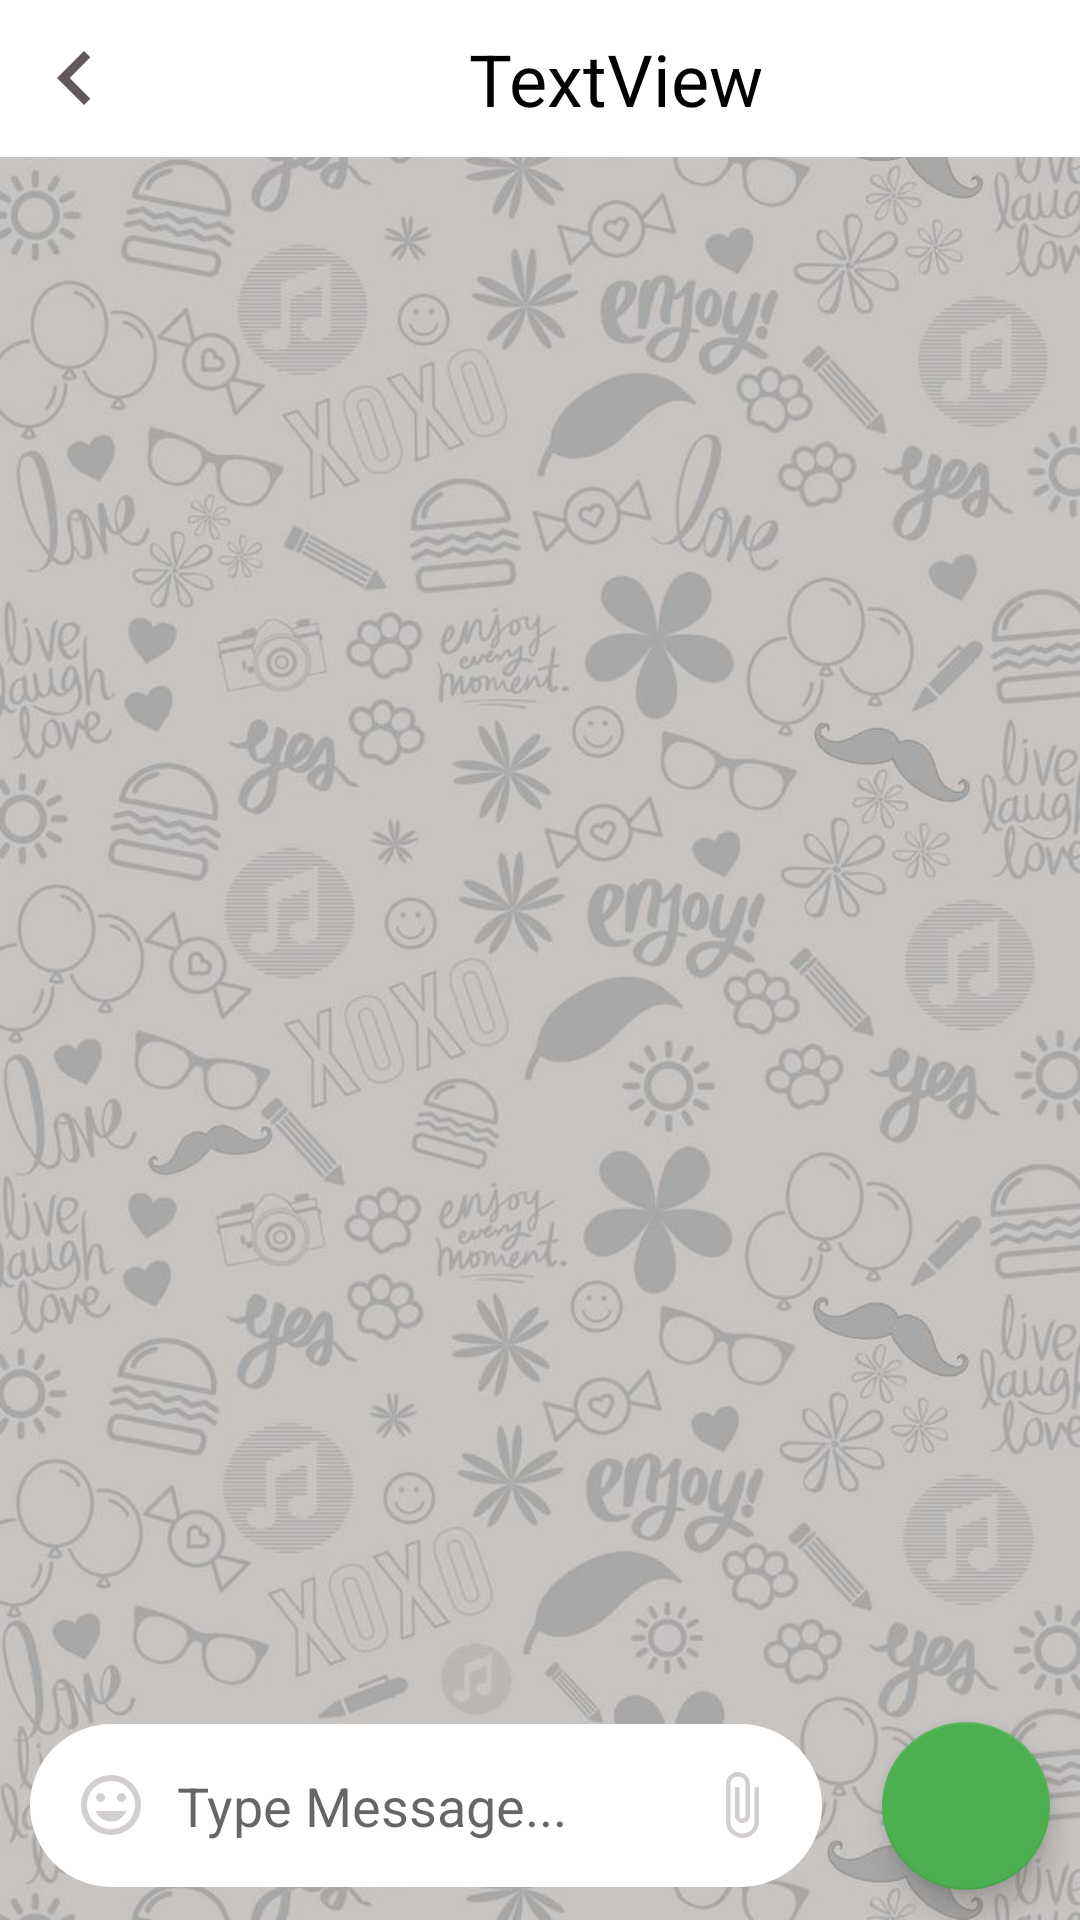

Screen size 1080x1920. Icon name, then its center in pixels as (x=x, y=y):
back: (x=73, y=78)
